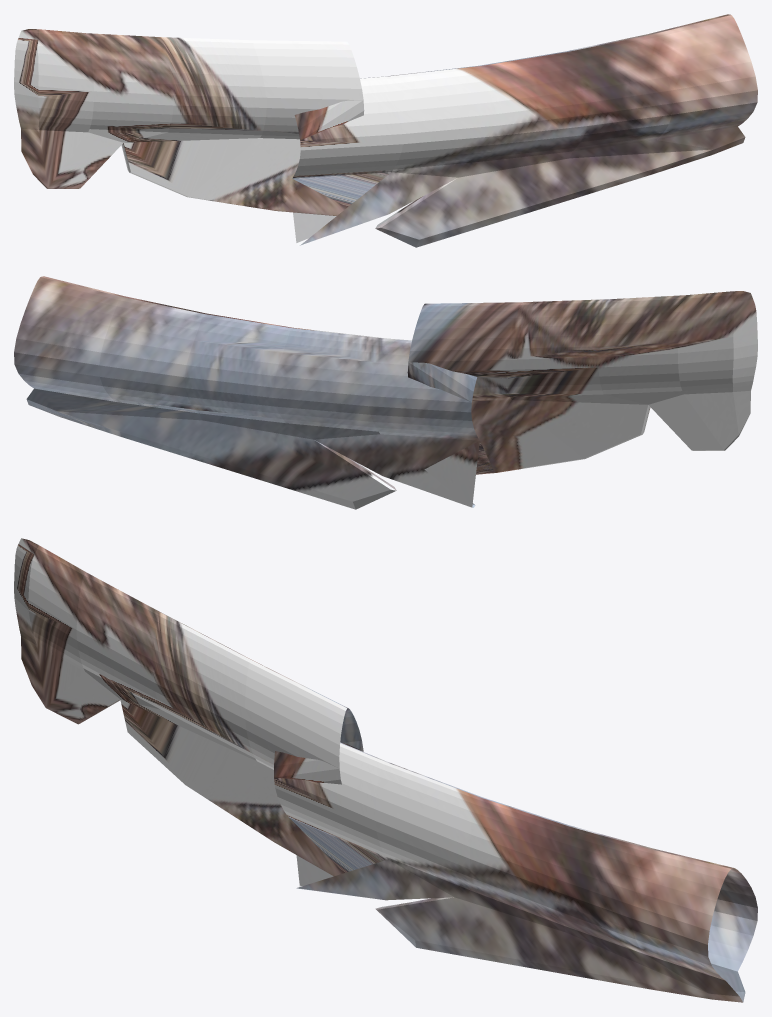
The model's file is cola.obj.
3 renders of one model, top to bottom at view 1: azimuth 30°, elevation 25°; view 2: azimuth 150°, elevation 25°; view 3: azimuth 330°, elevation 25°, orthographic.
Visible parts, largest first — view 1: polySurface2 Bambooshark_Mesh; view 2: polySurface2 Bambooshark_Mesh; view 3: polySurface2 Bambooshark_Mesh.
Boxes of the visible parts, x1,y1,x2,y2 form: polySurface2 Bambooshark_Mesh: (14, 14, 757, 247); polySurface2 Bambooshark_Mesh: (14, 276, 757, 509); polySurface2 Bambooshark_Mesh: (14, 538, 757, 1002).
Bounding box in the file's own units: 1.41 × 0.5768 × 0.1671.
1 material, 1 textured.
